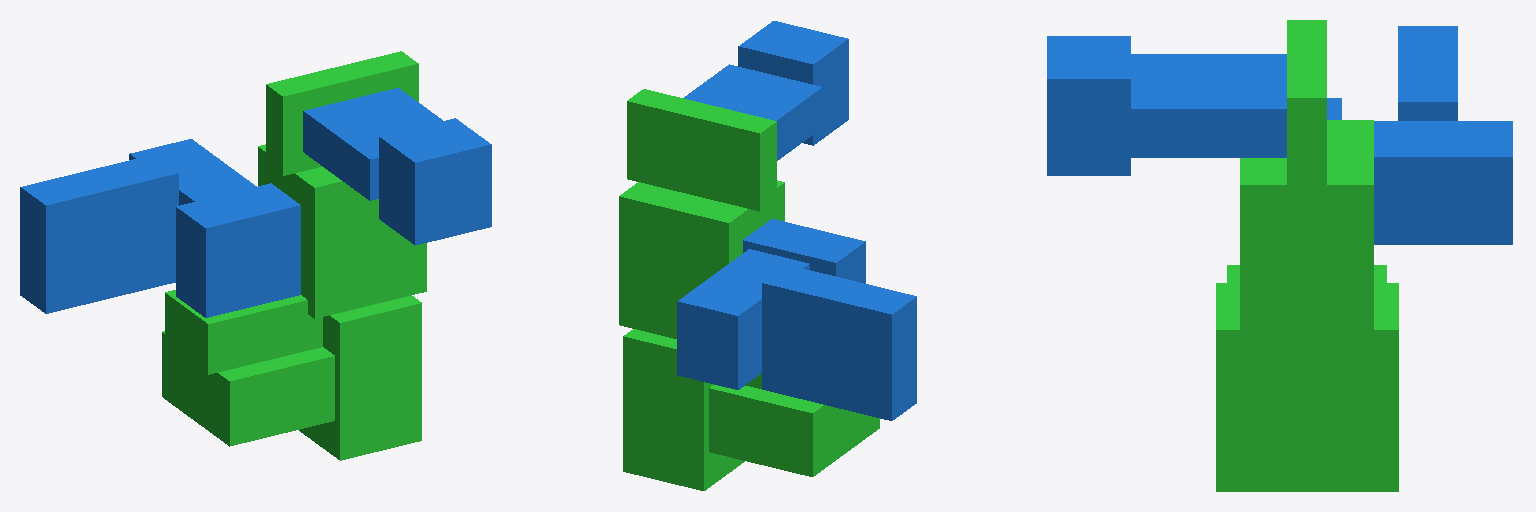
robot.urdf — robot:
<robot name = "robot">
    <link name="Link0">
        <inertial>
            <origin xyz="0 0 2" rpy="0 0 0"/>
            <mass value="0.3758313615820647" />
            <inertia ixx="100" ixy="0" ixz="0" iyy="100" iyz="0" izz="100" />
        </inertial>
        <visual>
            <origin xyz="0 0 2" rpy="0 0 0"/>
            <geometry>
                <box size="1.1311683184289048 0.3760784803971985 0.8834608342357256" />
            </geometry>
            <material name="No Sensor">
                <color rgba="0.184 0.553 0.933 1.0"/>
            </material>
        </visual>
        <collision>
            <origin xyz="0 0 2" rpy="0 0 0"/>
            <geometry>
                <box size="1.1311683184289048 0.3760784803971985 0.8834608342357256" />
            </geometry>
        </collision>
    </link>
    <joint name="Link0_Link1" type="revolute">
       <parent link="Link0"/>
       <child  link="Link1"/>
       <origin rpy="0 0 0" xyz="0.5655841592144524 0 2" />
       <axis xyz="1 0 0"/>
       <limit effort="0.0" lower="-3.14159" upper="3.14159" velocity="0.0"/>
    </joint>
    <link name="Link1">
        <inertial>
            <origin xyz="0.2638563662367121 0 0" rpy="0 0 0"/>
            <mass value="0.34932728375952926" />
            <inertia ixx="100" ixy="0" ixz="0" iyy="100" iyz="0" izz="100" />
        </inertial>
        <visual>
            <origin xyz="0.2638563662367121 0 0" rpy="0 0 0"/>
            <geometry>
                <box size="0.5277127324734242 1.077200325139306 0.6145234475558883" />
            </geometry>
            <material name="No Sensor">
                <color rgba="0.184 0.553 0.933 1.0"/>
            </material>
        </visual>
        <collision>
            <origin xyz="0.2638563662367121 0 0" rpy="0 0 0"/>
            <geometry>
                <box size="0.5277127324734242 1.077200325139306 0.6145234475558883" />
            </geometry>
        </collision>
    </link>
    <joint name="Link1_Link2" type="revolute">
       <parent link="Link1"/>
       <child  link="Link2"/>
       <origin rpy="0 0 0" xyz="0.2638563662367121 -0.538600162569653 0.0" />
       <axis xyz="0 0 1"/>
       <limit effort="0.0" lower="-3.14159" upper="3.14159" velocity="0.0"/>
    </joint>
    <link name="Link2">
        <inertial>
            <origin xyz="0.0 -0.2212089452068694 0.0" rpy="0 0 0"/>
            <mass value="0.318221940085156" />
            <inertia ixx="100" ixy="0" ixz="0" iyy="100" iyz="0" izz="100" />
        </inertial>
        <visual>
            <origin xyz="0.0 -0.2212089452068694 0.0" rpy="0 0 0"/>
            <geometry>
                <box size="0.983366094468834 0.4424178904137388 0.7314458975407394" />
            </geometry>
            <material name="No Sensor">
                <color rgba="0.184 0.553 0.933 1.0"/>
            </material>
        </visual>
        <collision>
            <origin xyz="0.0 -0.2212089452068694 0.0" rpy="0 0 0"/>
            <geometry>
                <box size="0.983366094468834 0.4424178904137388 0.7314458975407394" />
            </geometry>
        </collision>
    </link>
    <joint name="Link2_Link3" type="revolute">
       <parent link="Link2"/>
       <child  link="Link3"/>
       <origin rpy="0 0 0" xyz="0.0 -0.2212089452068694 -0.3657229487703697" />
       <axis xyz="0 1 0"/>
       <limit effort="0.0" lower="-3.14159" upper="3.14159" velocity="0.0"/>
    </joint>
    <link name="Link3">
        <inertial>
            <origin xyz="0.0 0.0 -0.20578701992804493" rpy="0 0 0"/>
            <mass value="0.28055491951235834" />
            <inertia ixx="100" ixy="0" ixz="0" iyy="100" iyz="0" izz="100" />
        </inertial>
        <visual>
            <origin xyz="0.0 0.0 -0.20578701992804493" rpy="0 0 0"/>
            <geometry>
                <box size="1.0535946264310272 0.646988211672374 0.41157403985608987" />
            </geometry>
            <material name="Sensor">
                <color rgba="0.239 0.875 0.282 1.0"/>
            </material>
        </visual>
        <collision>
            <origin xyz="0.0 0.0 -0.20578701992804493" rpy="0 0 0"/>
            <geometry>
                <box size="1.0535946264310272 0.646988211672374 0.41157403985608987" />
            </geometry>
        </collision>
    </link>
    <joint name="Link3_Link4" type="revolute">
       <parent link="Link3"/>
       <child  link="Link4"/>
       <origin rpy="0 0 0" xyz="0.0 0.0 -0.41157403985608987" />
       <axis xyz="1 0 0"/>
       <limit effort="0.0" lower="-3.14159" upper="3.14159" velocity="0.0"/>
    </joint>
    <link name="Link4">
        <inertial>
            <origin xyz="0.0 0.0 -0.26509631768654685" rpy="0 0 0"/>
            <mass value="0.4782189451274343" />
            <inertia ixx="100" ixy="0" ixz="0" iyy="100" iyz="0" izz="100" />
        </inertial>
        <visual>
            <origin xyz="0.0 0.0 -0.26509631768654685" rpy="0 0 0"/>
            <geometry>
                <box size="0.8989822226486474 1.0033258058943924 0.5301926353730937" />
            </geometry>
            <material name="Sensor">
                <color rgba="0.239 0.875 0.282 1.0"/>
            </material>
        </visual>
        <collision>
            <origin xyz="0.0 0.0 -0.26509631768654685" rpy="0 0 0"/>
            <geometry>
                <box size="0.8989822226486474 1.0033258058943924 0.5301926353730937" />
            </geometry>
        </collision>
    </link>
    <joint name="Link4_Link5" type="revolute">
       <parent link="Link4"/>
       <child  link="Link5"/>
       <origin rpy="0 0 0" xyz="0.4494911113243237 0.0 -0.26509631768654685" />
       <axis xyz="1 0 0"/>
       <limit effort="0.0" lower="-3.14159" upper="3.14159" velocity="0.0"/>
    </joint>
    <link name="Link5">
        <inertial>
            <origin xyz="0.3506809306162008 0.0 0.0" rpy="0 0 0"/>
            <mass value="0.9053088773591335" />
            <inertia ixx="100" ixy="0" ixz="0" iyy="100" iyz="0" izz="100" />
        </inertial>
        <visual>
            <origin xyz="0.3506809306162008 0.0 0.0" rpy="0 0 0"/>
            <geometry>
                <box size="0.7013618612324016 1.1504489123860653 1.1219856311909184" />
            </geometry>
            <material name="Sensor">
                <color rgba="0.239 0.875 0.282 1.0"/>
            </material>
        </visual>
        <collision>
            <origin xyz="0.3506809306162008 0.0 0.0" rpy="0 0 0"/>
            <geometry>
                <box size="0.7013618612324016 1.1504489123860653 1.1219856311909184" />
            </geometry>
        </collision>
    </link>
    <joint name="Link5_Link6" type="revolute">
       <parent link="Link5"/>
       <child  link="Link6"/>
       <origin rpy="0 0 0" xyz="0.3506809306162008 0.0 0.5609928155954592" />
       <axis xyz="1 0 0"/>
       <limit effort="0.0" lower="-3.14159" upper="3.14159" velocity="0.0"/>
    </joint>
    <link name="Link6">
        <inertial>
            <origin xyz="0.0 0.0 0.5336911351985628" rpy="0 0 0"/>
            <mass value="0.8591355997331697" />
            <inertia ixx="100" ixy="0" ixz="0" iyy="100" iyz="0" izz="100" />
        </inertial>
        <visual>
            <origin xyz="0.0 0.0 0.5336911351985628" rpy="0 0 0"/>
            <geometry>
                <box size="0.9571876097841823 0.8409005994904067 1.0673822703971256" />
            </geometry>
            <material name="Sensor">
                <color rgba="0.239 0.875 0.282 1.0"/>
            </material>
        </visual>
        <collision>
            <origin xyz="0.0 0.0 0.5336911351985628" rpy="0 0 0"/>
            <geometry>
                <box size="0.9571876097841823 0.8409005994904067 1.0673822703971256" />
            </geometry>
        </collision>
    </link>
    <joint name="Link6_Link7" type="revolute">
       <parent link="Link6"/>
       <child  link="Link7"/>
       <origin rpy="0 0 0" xyz="0.0 0.0 1.0673822703971256" />
       <axis xyz="0 1 0"/>
       <limit effort="0.0" lower="-3.14159" upper="3.14159" velocity="0.0"/>
    </joint>
    <link name="Link7">
        <inertial>
            <origin xyz="0.0 0.0 0.3236138831168809" rpy="0 0 0"/>
            <mass value="0.18919375314784886" />
            <inertia ixx="100" ixy="0" ixz="0" iyy="100" iyz="0" izz="100" />
        </inertial>
        <visual>
            <origin xyz="0.0 0.0 0.3236138831168809" rpy="0 0 0"/>
            <geometry>
                <box size="1.1576446460998389 0.25250755966792315 0.6472277662337618" />
            </geometry>
            <material name="Sensor">
                <color rgba="0.239 0.875 0.282 1.0"/>
            </material>
        </visual>
        <collision>
            <origin xyz="0.0 0.0 0.3236138831168809" rpy="0 0 0"/>
            <geometry>
                <box size="1.1576446460998389 0.25250755966792315 0.6472277662337618" />
            </geometry>
        </collision>
    </link>
    <joint name="Link7_Link8" type="revolute">
       <parent link="Link7"/>
       <child  link="Link8"/>
       <origin rpy="0 0 0" xyz="0.0 -0.12625377983396158 0.3236138831168809" />
       <axis xyz="0 1 0"/>
       <limit effort="0.0" lower="-3.14159" upper="3.14159" velocity="0.0"/>
    </joint>
    <link name="Link8">
        <inertial>
            <origin xyz="0.0 -0.4919615681424383 0.0" rpy="0 0 0"/>
            <mass value="0.2694263610638474" />
            <inertia ixx="100" ixy="0" ixz="0" iyy="100" iyz="0" izz="100" />
        </inertial>
        <visual>
            <origin xyz="0.0 -0.4919615681424383 0.0" rpy="0 0 0"/>
            <geometry>
                <box size="0.8114096837184815 0.9839231362848766 0.3374727621850435" />
            </geometry>
            <material name="No Sensor">
                <color rgba="0.184 0.553 0.933 1.0"/>
            </material>
        </visual>
        <collision>
            <origin xyz="0.0 -0.4919615681424383 0.0" rpy="0 0 0"/>
            <geometry>
                <box size="0.8114096837184815 0.9839231362848766 0.3374727621850435" />
            </geometry>
        </collision>
    </link>
    <joint name="Link8_Link9" type="revolute">
       <parent link="Link8"/>
       <child  link="Link9"/>
       <origin rpy="0 0 0" xyz="0.0 -0.9839231362848766 0.0" />
       <axis xyz="1 0 0"/>
       <limit effort="0.0" lower="-3.14159" upper="3.14159" velocity="0.0"/>
    </joint>
    <link name="Link9">
        <inertial>
            <origin xyz="0.0 -0.26481058972492444 0.0" rpy="0 0 0"/>
            <mass value="0.23177097548745296" />
            <inertia ixx="100" ixy="0" ixz="0" iyy="100" iyz="0" izz="100" />
        </inertial>
        <visual>
            <origin xyz="0.0 -0.26481058972492444 0.0" rpy="0 0 0"/>
            <geometry>
                <box size="0.6497549876808645 0.5296211794498489 0.673510053105183" />
            </geometry>
            <material name="No Sensor">
                <color rgba="0.184 0.553 0.933 1.0"/>
            </material>
        </visual>
        <collision>
            <origin xyz="0.0 -0.26481058972492444 0.0" rpy="0 0 0"/>
            <geometry>
                <box size="0.6497549876808645 0.5296211794498489 0.673510053105183" />
            </geometry>
        </collision>
    </link>
</robot>

--- Render facts (derived) ---
3 views of the same robot in one strip: view 1: azimuth 30°, elevation 25°; view 2: azimuth 150°, elevation 25°; view 3: azimuth 270°, elevation 25° (orthographic).
Model robot with 10 links and 9 joints (9 revolute), rooted at Link0, posed every joint at zero.
Visible links, largest first — view 1: Link0, Link6, Link2, Link5, Link4, Link9, Link3, Link7, Link8, Link1; view 2: Link0, Link6, Link7, Link5, Link4, Link1, Link9, Link8, Link2; view 3: Link5, Link6, Link1, Link8, Link9, Link7, Link0.
Link boxes in pixels (bbox=[...]): Link0: bbox=[20, 155, 178, 313]; Link6: bbox=[258, 144, 426, 318]; Link2: bbox=[176, 183, 300, 317]; Link5: bbox=[299, 295, 421, 460]; Link4: bbox=[162, 331, 334, 446]; Link9: bbox=[379, 118, 491, 245]; Link3: bbox=[165, 290, 322, 374]; Link7: bbox=[266, 51, 418, 175]; Link8: bbox=[303, 88, 442, 200]; Link1: bbox=[129, 139, 256, 205]; Link0: bbox=[762, 265, 916, 420]; Link6: bbox=[619, 180, 784, 338]; Link7: bbox=[627, 89, 776, 211]; Link5: bbox=[623, 329, 744, 490]; Link4: bbox=[709, 385, 879, 476]; Link1: bbox=[677, 249, 809, 389]; Link9: bbox=[738, 21, 848, 145]; Link8: bbox=[684, 64, 822, 160]; Link2: bbox=[743, 219, 865, 283]; Link5: bbox=[1216, 283, 1398, 491]; Link6: bbox=[1240, 120, 1373, 337]; Link1: bbox=[1374, 121, 1512, 244]; Link8: bbox=[1131, 54, 1286, 157]; Link9: bbox=[1047, 36, 1130, 175]; Link7: bbox=[1287, 20, 1326, 190]; Link0: bbox=[1398, 26, 1457, 120].
Bounding box of the posed robot: 2.77 × 2.94 × 2.85 m (x, y, z).
Geometry: primitives only (box / cylinder / sphere), no mesh files.